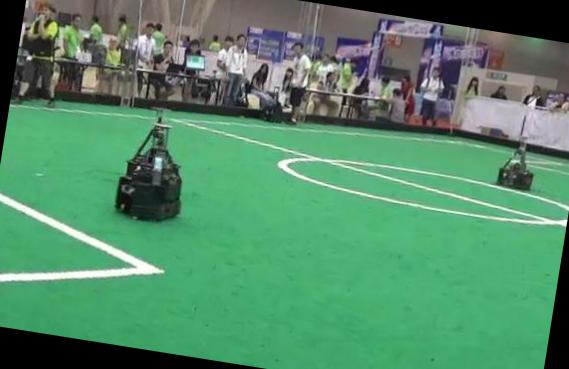person: (14, 7, 59, 106), (289, 42, 311, 123)
robot: (115, 122, 180, 219), (496, 140, 533, 190)
